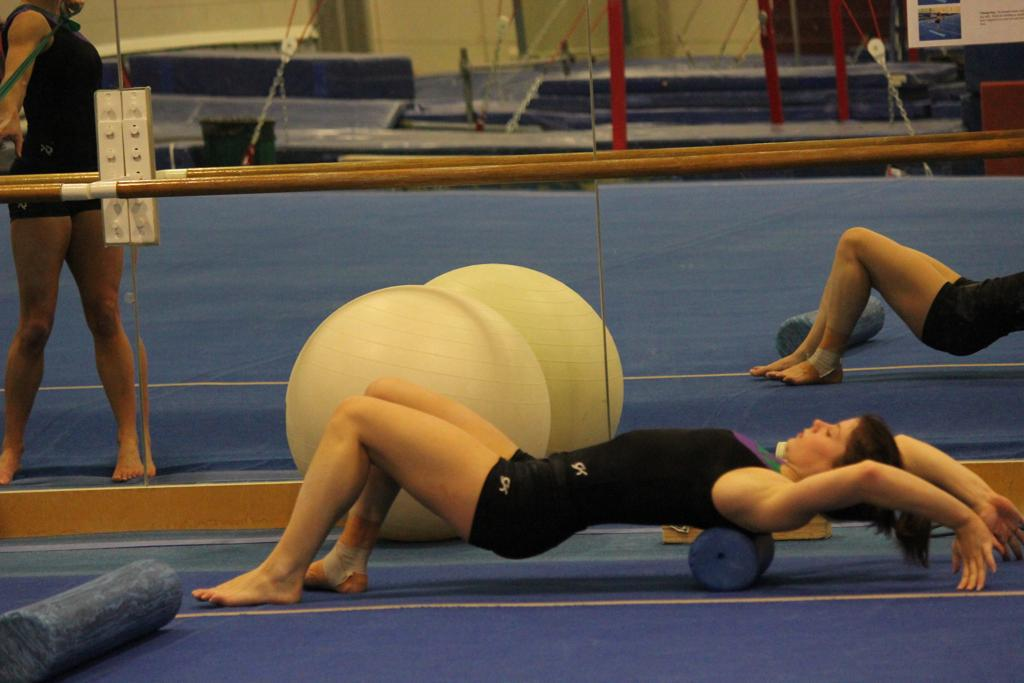face: (783, 421, 879, 477)
